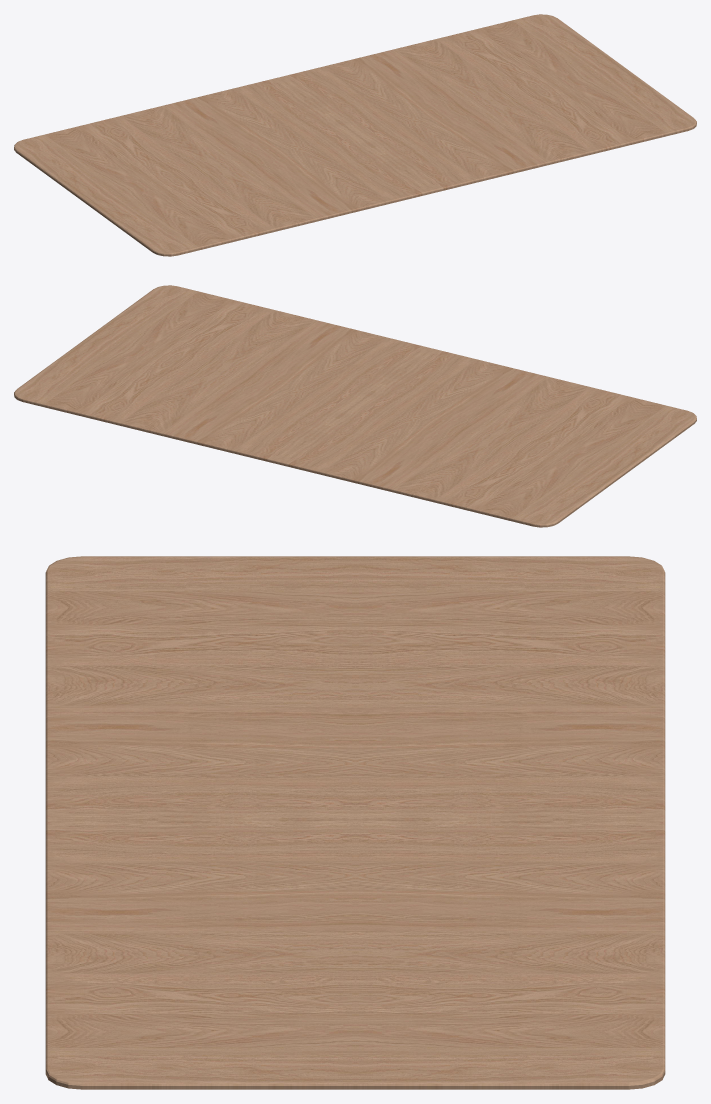
File: Table.gltf
3 views of the same model, one above another, from view 1: azimuth 30°, elevation 25°; view 2: azimuth 150°, elevation 25°; view 3: azimuth 270°, elevation 25° (orthographic). The views are drawn at different scales.
Parts seen in each view (by area): view 1: Table; view 2: Table; view 3: Table.
Boxes of the visible parts, bbox=[...] form: Table: bbox=[14, 14, 696, 256]; Table: bbox=[14, 285, 696, 527]; Table: bbox=[45, 556, 665, 1089].
Size of the model in its own units: 10.44 by 0.0515 by 5.17.
1 material, 1 textured.
